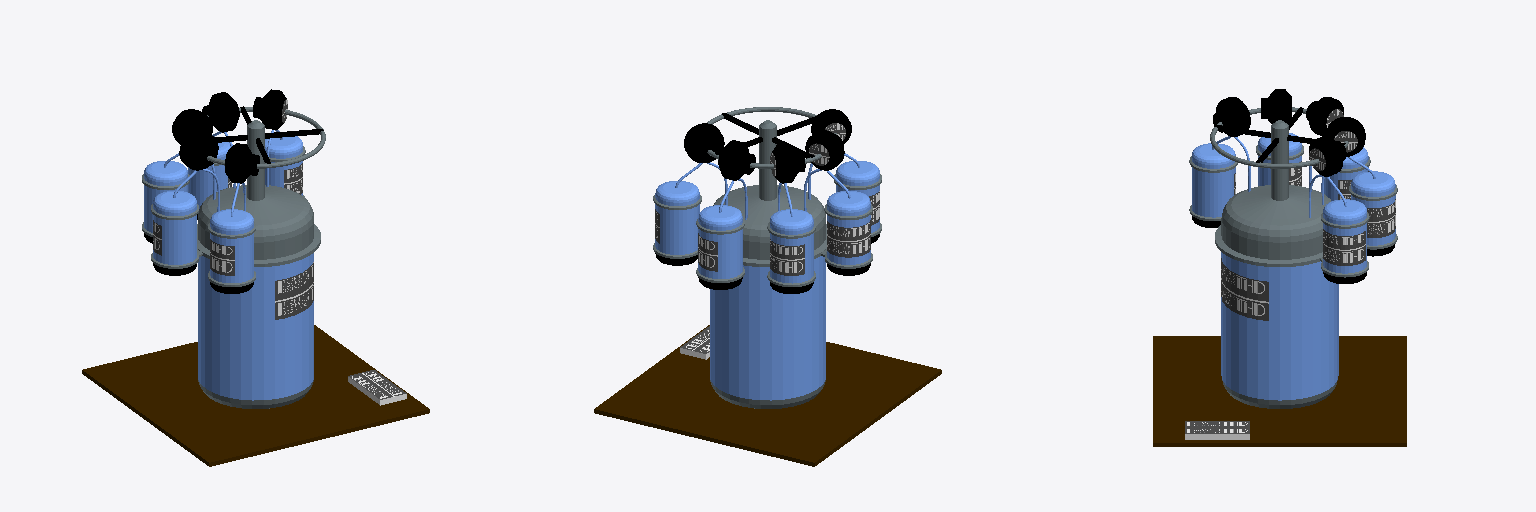
3 renders of one model, left to right at view 1: azimuth 30°, elevation 25°; view 2: azimuth 150°, elevation 25°; view 3: azimuth 270°, elevation 25°, orthographic.
Parts seen in each view (by area): view 1: Cube.001_Cube.008; view 2: Cube.001_Cube.008; view 3: Cube.001_Cube.008.
Boxes of the visible parts, x1,y1,x2,y2 form: Cube.001_Cube.008: [82, 89, 429, 466]; Cube.001_Cube.008: [594, 107, 941, 466]; Cube.001_Cube.008: [1153, 89, 1406, 446].
Size of the model in its own units: 8.01 by 9.54 by 8.01.
1 materials, 1 textured.